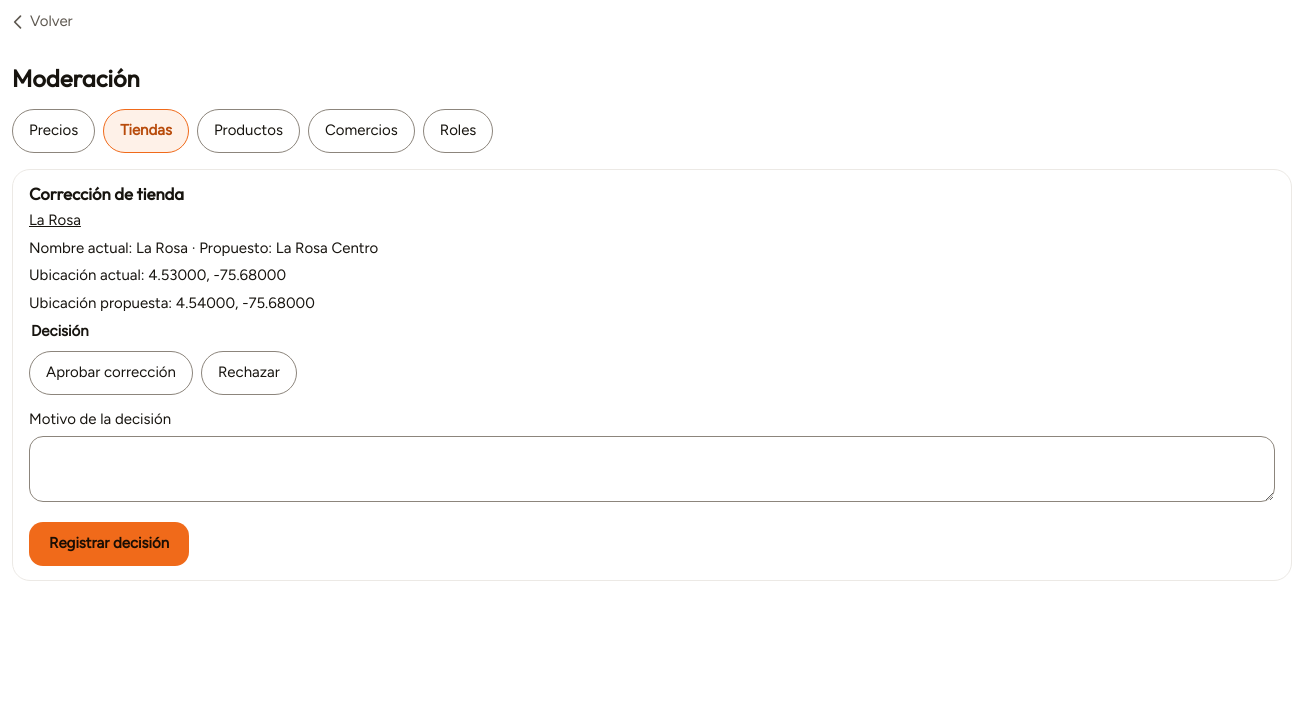
Test case: permite aprobar una corrección en Tiendas y muestra los cambios propuestos
Expected: the text "Nombre actual: La Rosa · Propuesto: La Rosa Centro" is shown, [29,239,378,257]
Expected: the text "Ubicación propuesta: 4.54000, -75.68000" is shown, [29,294,315,312]
Click the radio button labelled "Aprobar corrección" at [111, 373], box [29,351,193,395]
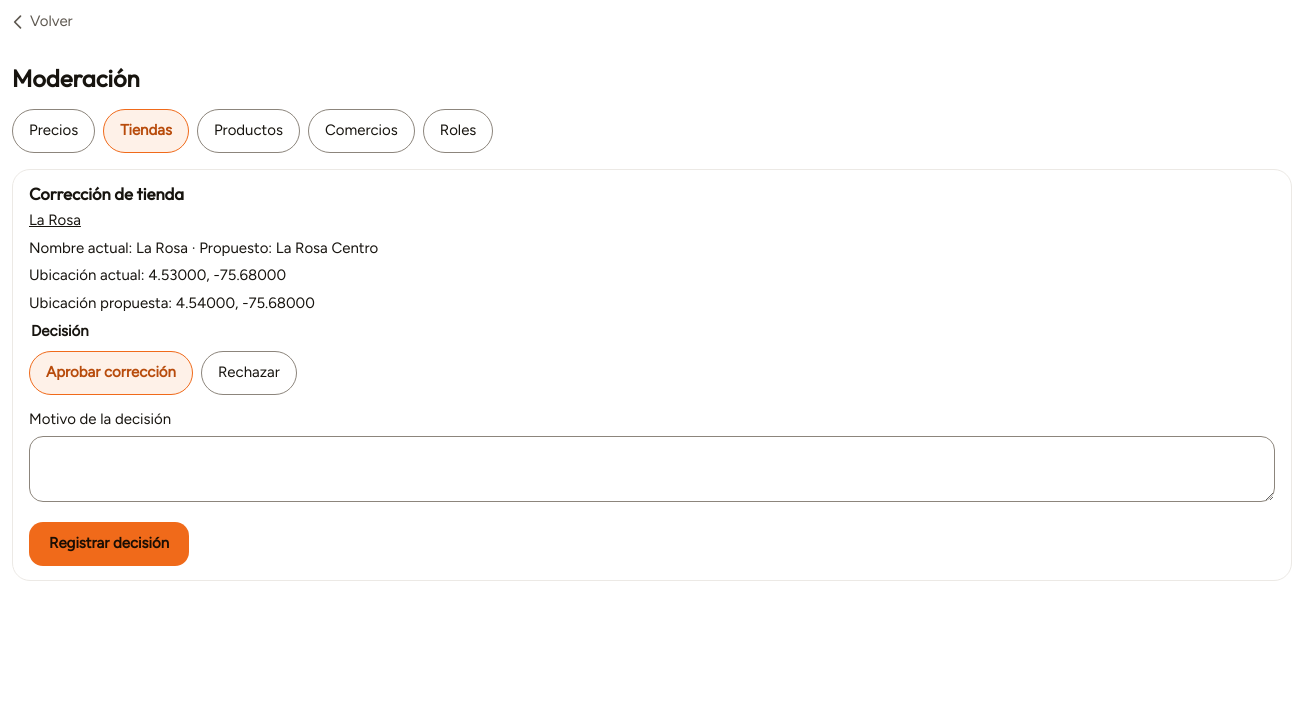
Type "Confirmado en la visita." into the text box labelled "Motivo de la decisión" at [652, 469], box [29,436,1275,502]
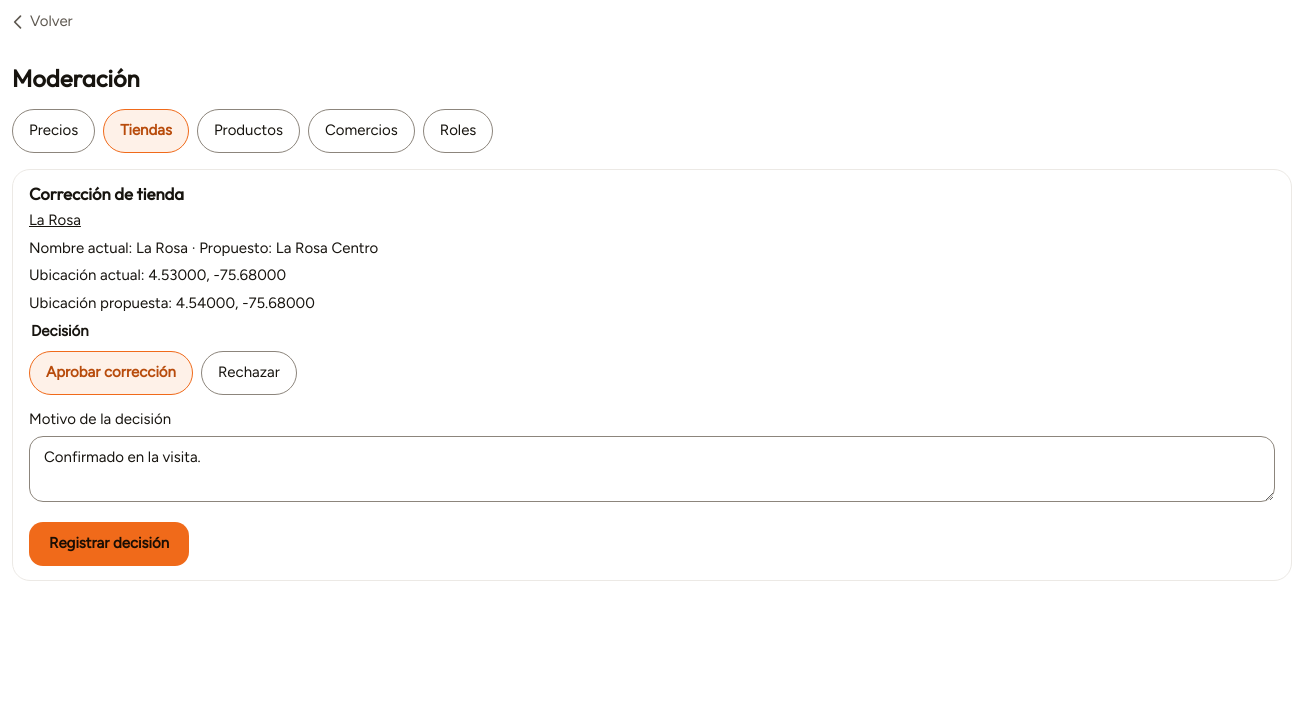
Click the button "Registrar decisión" at [109, 544], box [29,522,189,566]
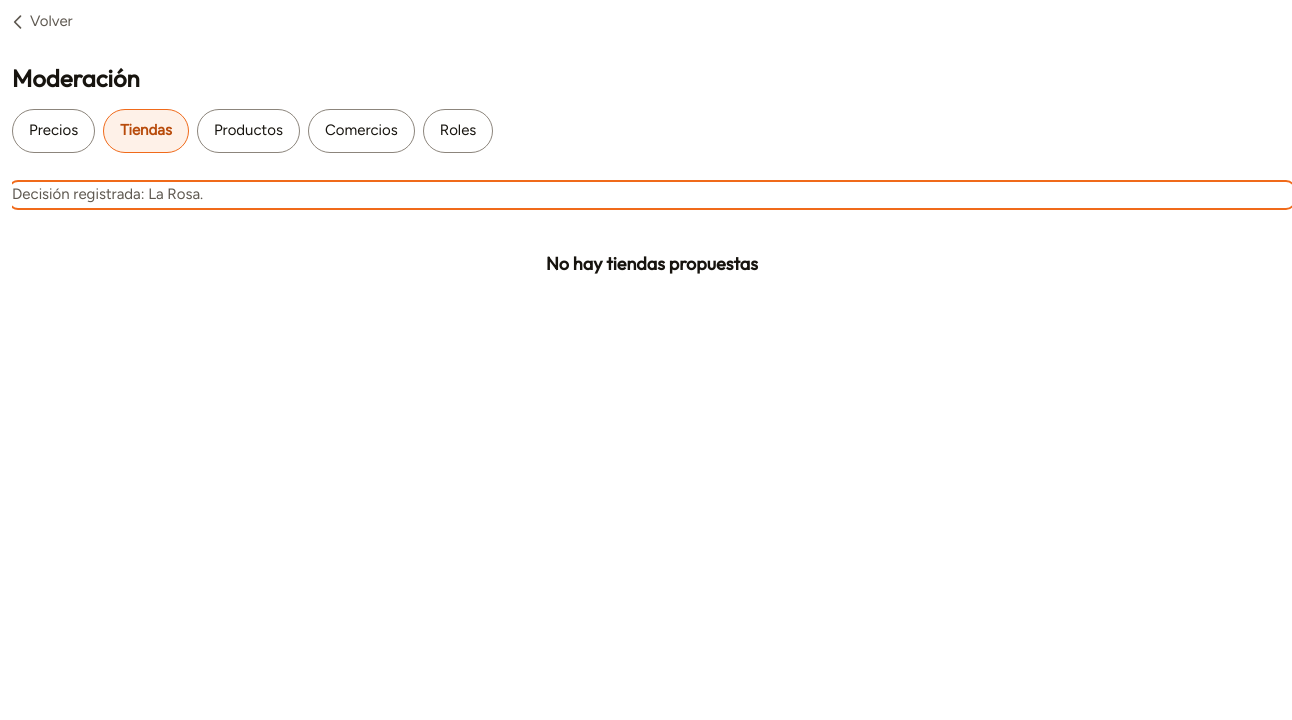
Expected: the text "Decisión registrada: La Rosa." is shown, [12,185,203,203]
